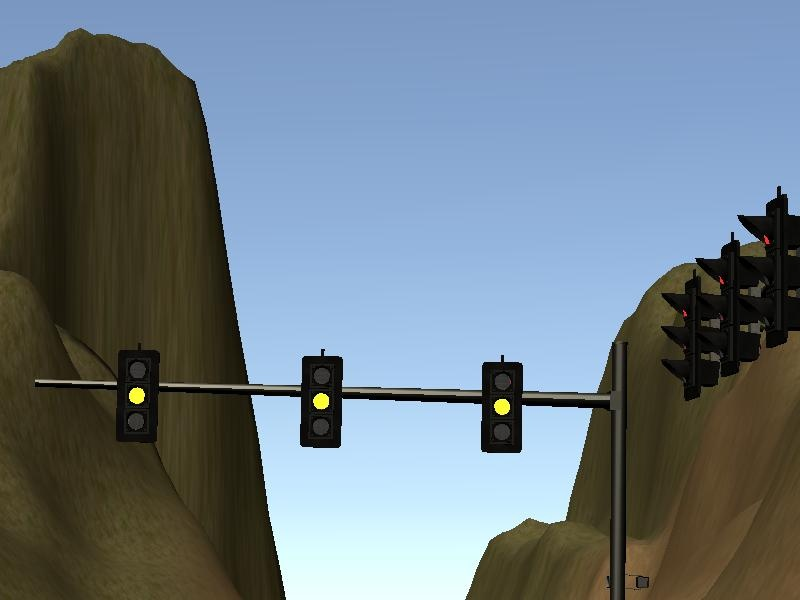YELLOW: (297, 354, 343, 451), (114, 346, 160, 443), (478, 362, 522, 454)
